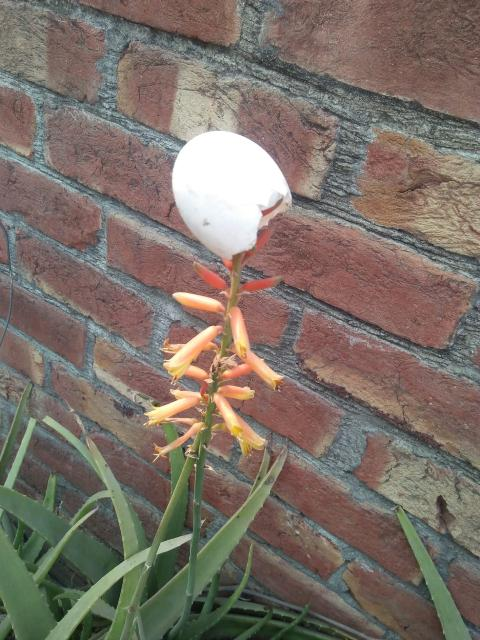Roto: (171, 129, 292, 263)
